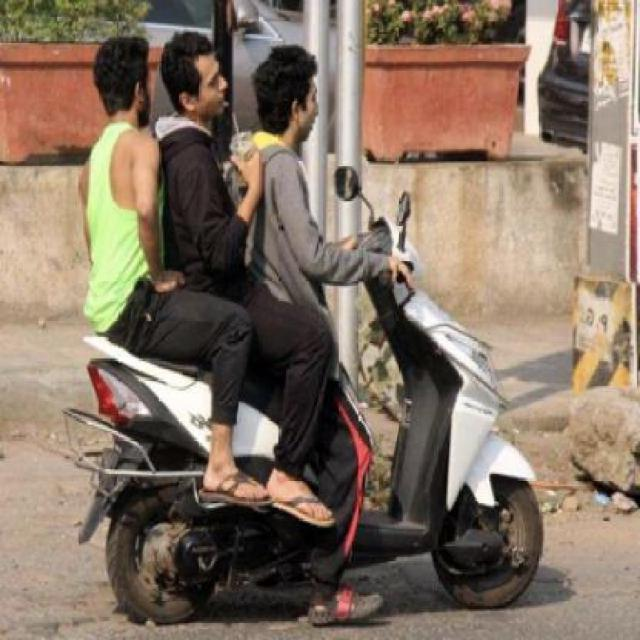motorcycle: (87, 14, 488, 612)
